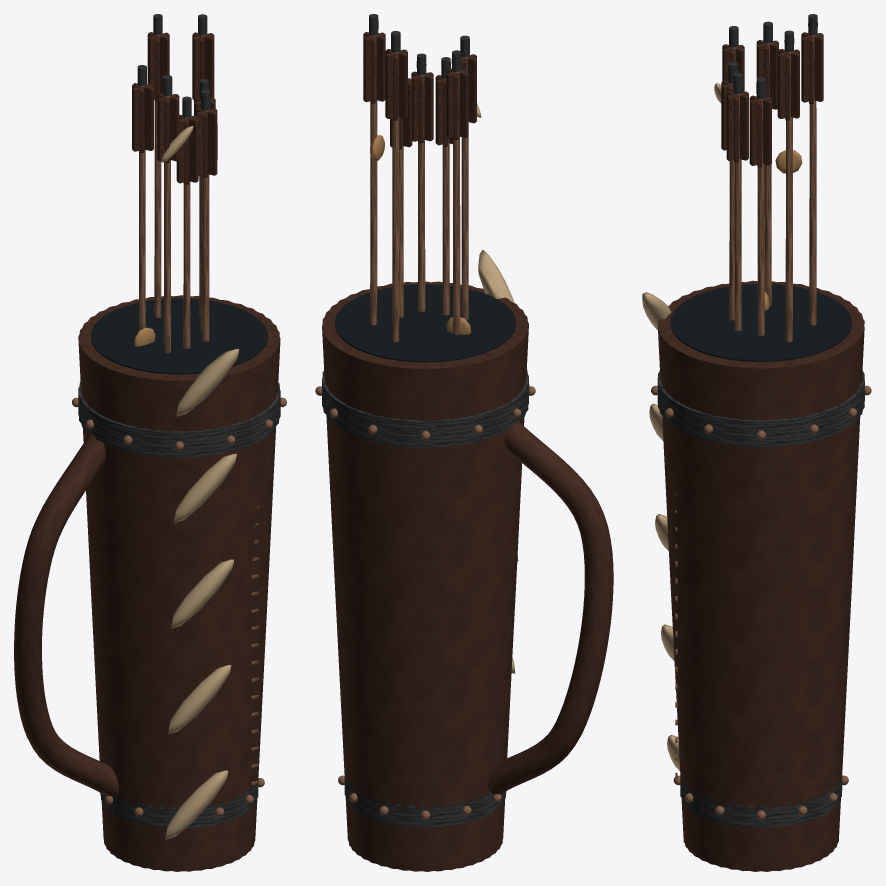
3 renders of one model, left to right at view 1: azimuth 30°, elevation 25°; view 2: azimuth 150°, elevation 25°; view 3: azimuth 270°, elevation 25°, orthographic. The views are drawn at different scales.
Parts seen in each view (by area): view 1: saddle leather, machined receiver, recess shadow, edge hardware, thread loop; view 2: saddle leather, edge hardware, machined receiver, recess shadow, thread loop; view 3: saddle leather, machined receiver, recess shadow, edge hardware, thread loop.
Part boxes in pixels (x1,y1,x2,y2): saddle leather: [14, 32, 280, 871]; machined receiver: [78, 14, 280, 828]; recess shadow: [91, 298, 267, 374]; edge hardware: [72, 34, 286, 816]; thread loop: [162, 126, 239, 839]; saddle leather: [322, 32, 613, 871]; edge hardware: [315, 35, 535, 820]; machined receiver: [322, 14, 529, 827]; recess shadow: [334, 284, 516, 362]; thread loop: [477, 103, 518, 673]; saddle leather: [658, 32, 864, 871]; machined receiver: [657, 14, 864, 827]; recess shadow: [670, 284, 851, 361]; edge hardware: [651, 35, 871, 820]; thread loop: [642, 83, 721, 770].
Size of the model in its own units: 0.1935 by 0.561 by 0.1413.
6 materials, 3 textured.
